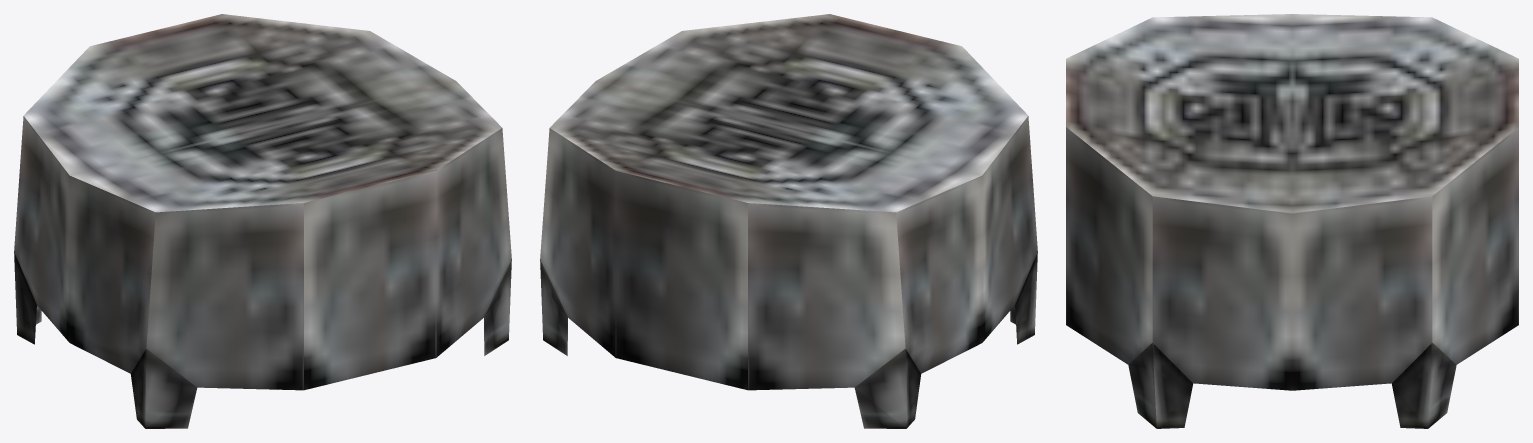
3 views of the same model, side by side, from view 1: azimuth 30°, elevation 25°; view 2: azimuth 150°, elevation 25°; view 3: azimuth 270°, elevation 25° (orthographic). The views are drawn at different scales.
Parts seen in each view (by area): view 1: a104; view 2: a104; view 3: a104.
Part boxes in pixels (left/top/right/bottom): a104: left=14, top=14, right=511, bottom=428; a104: left=540, top=14, right=1037, bottom=428; a104: left=1066, top=14, right=1518, bottom=428.
Bounding box in the file's own units: 314 × 179 × 301.
